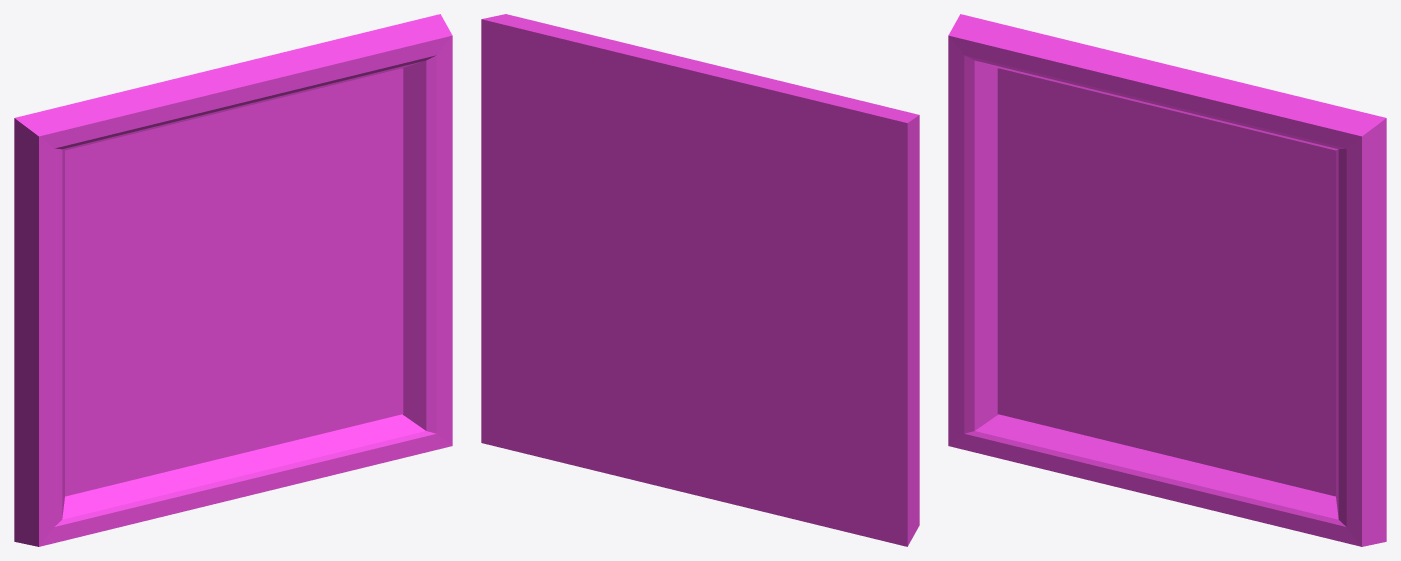
File: SM_Picture_Knight_Painting_Fantasy.fbx
The picture shows the model from 3 angles, left to right: view 1: azimuth 30°, elevation 25°; view 2: azimuth 150°, elevation 25°; view 3: azimuth 330°, elevation 25°; orthographic projection.
Visible parts, largest first — view 1: SM_Picture_Knight_Painting_Fantasy; view 2: SM_Picture_Knight_Painting_Fantasy; view 3: SM_Picture_Knight_Painting_Fantasy.
Part boxes in pixels (x1,y1,x2,y2): SM_Picture_Knight_Painting_Fantasy: [14, 14, 452, 546]; SM_Picture_Knight_Painting_Fantasy: [481, 14, 919, 546]; SM_Picture_Knight_Painting_Fantasy: [948, 14, 1386, 546].
Size of the model in its own units: 1.35 by 1.29 by 0.1005.
